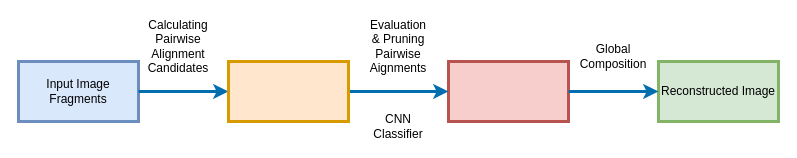
This 797x158 diagram has some shape labels left out. Here are the shapes that lost their labels. From the top down, the centre of each, then its label:
the point at 288,91: Pairwise Alignments
the point at 508,91: Classification
